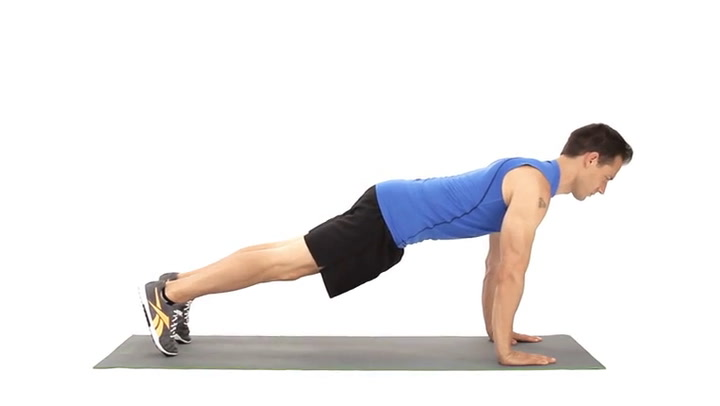up: (140, 123, 633, 370)
